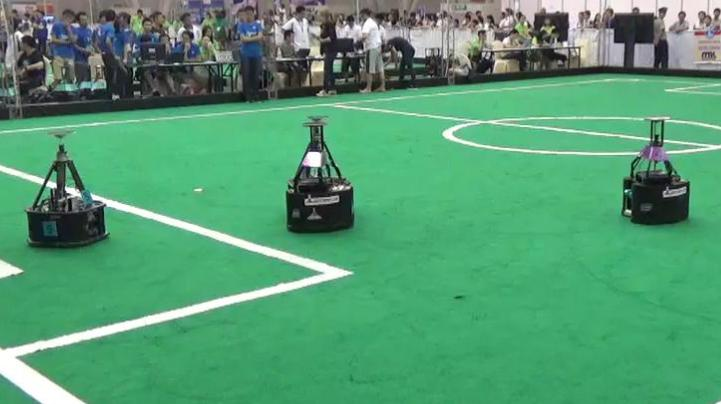robot: (18, 128, 113, 253), (279, 115, 360, 239), (618, 116, 693, 228)
